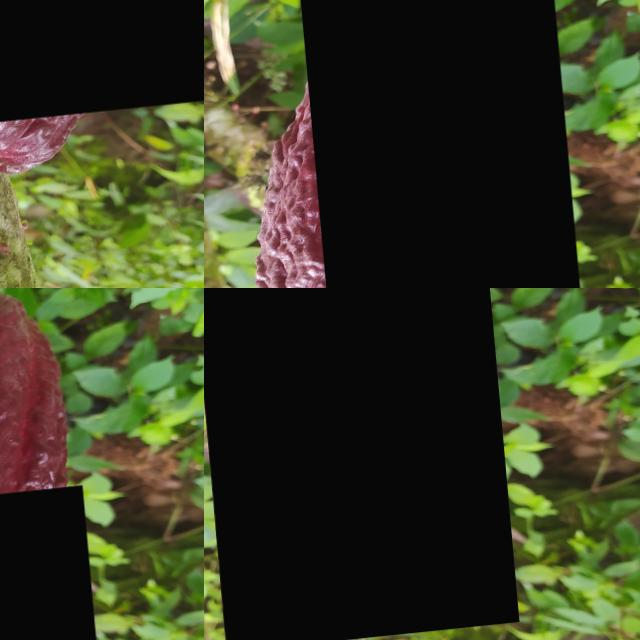Monilia: (298, 0, 575, 288)
Sana: (204, 288, 510, 640), (0, 0, 204, 135), (0, 495, 97, 640)
